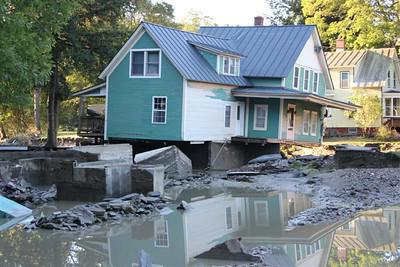affected: (323, 47, 400, 140)
major: (12, 22, 336, 202)
